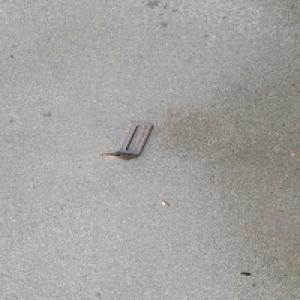MetalPart: (98, 121, 153, 161)
